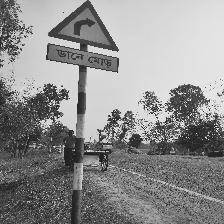Right-turn: (46, 0, 120, 74)
